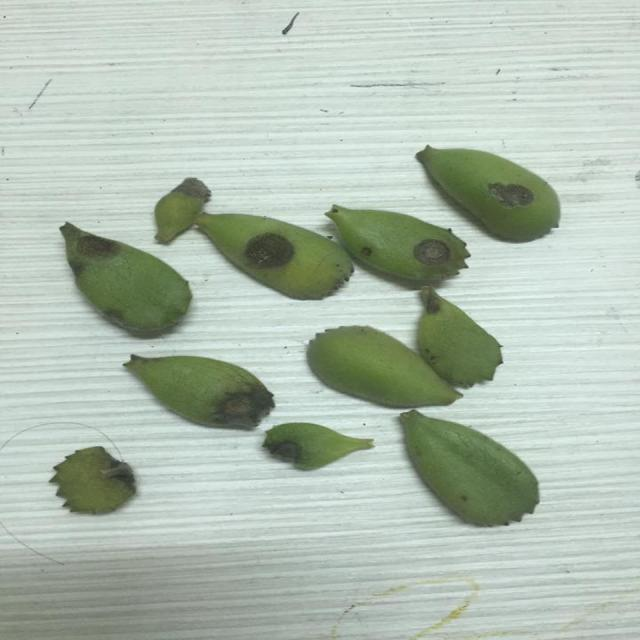-: (204, 388, 268, 430), (240, 232, 301, 276), (484, 176, 545, 212), (260, 436, 314, 474), (70, 233, 126, 266), (100, 456, 141, 494), (410, 236, 453, 272)
